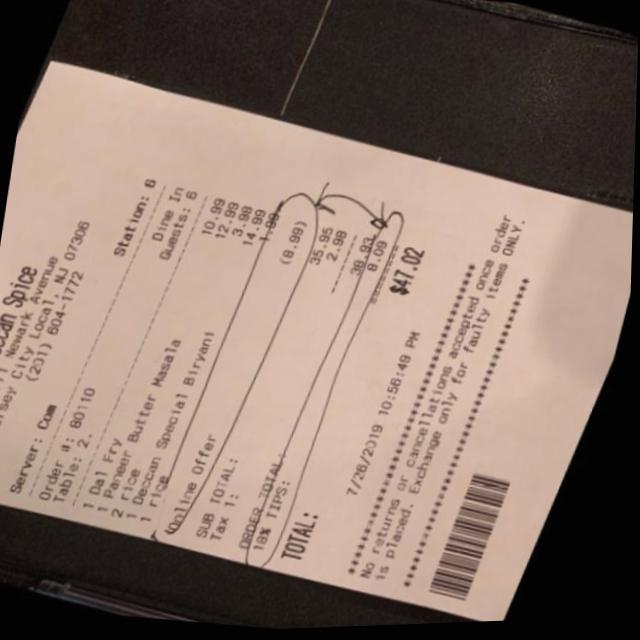Paper: (0, 33, 639, 640)
